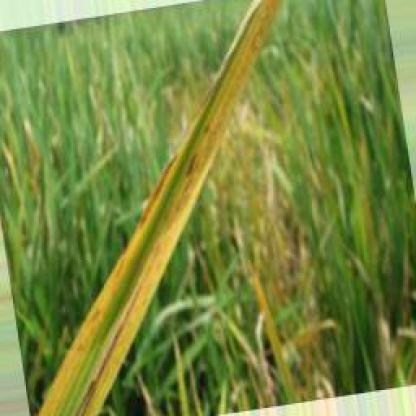Tungro: (43, 3, 282, 413)
